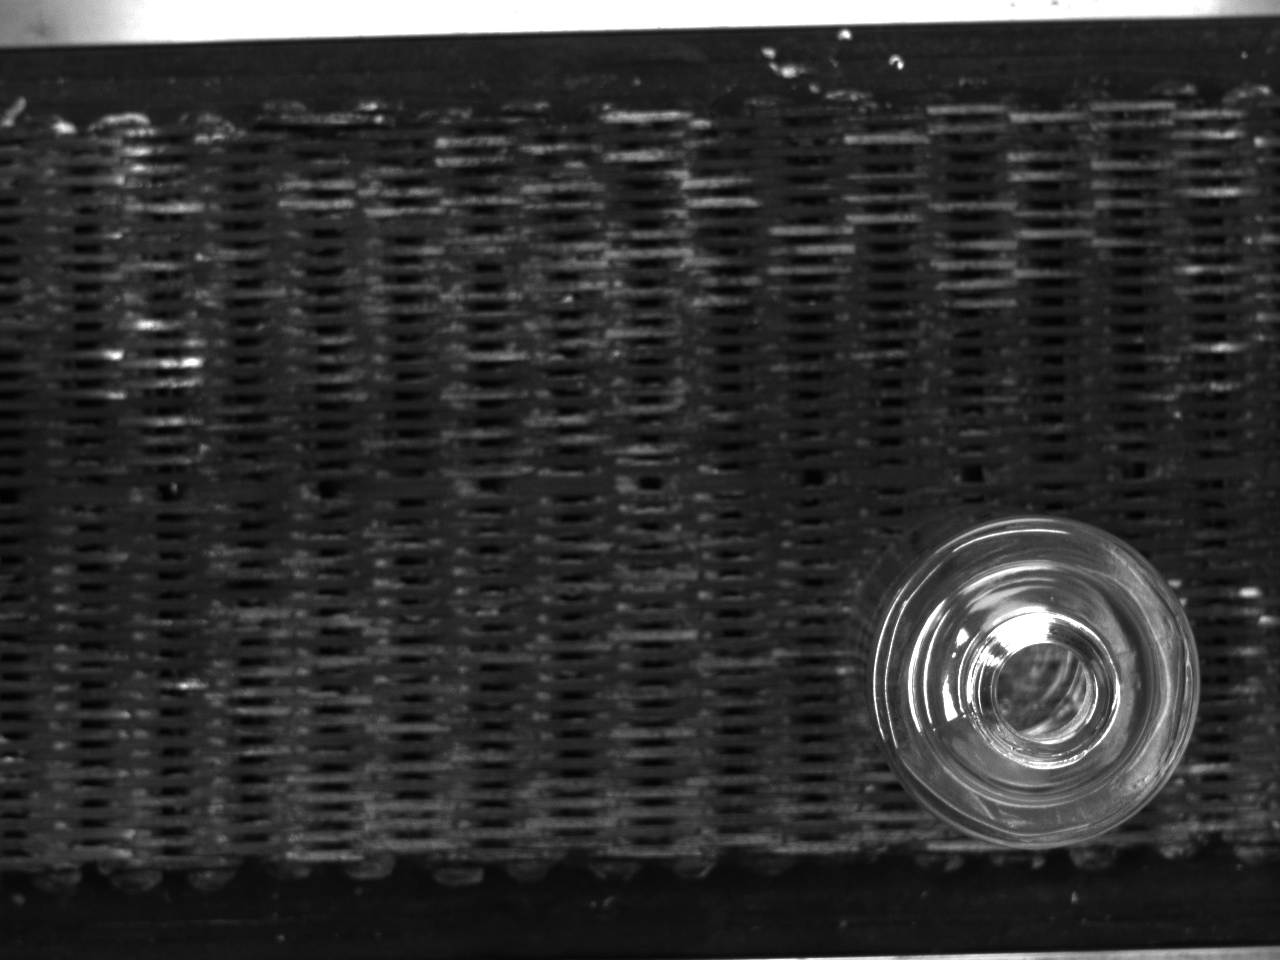bottleneck: (970, 611, 1122, 771)
